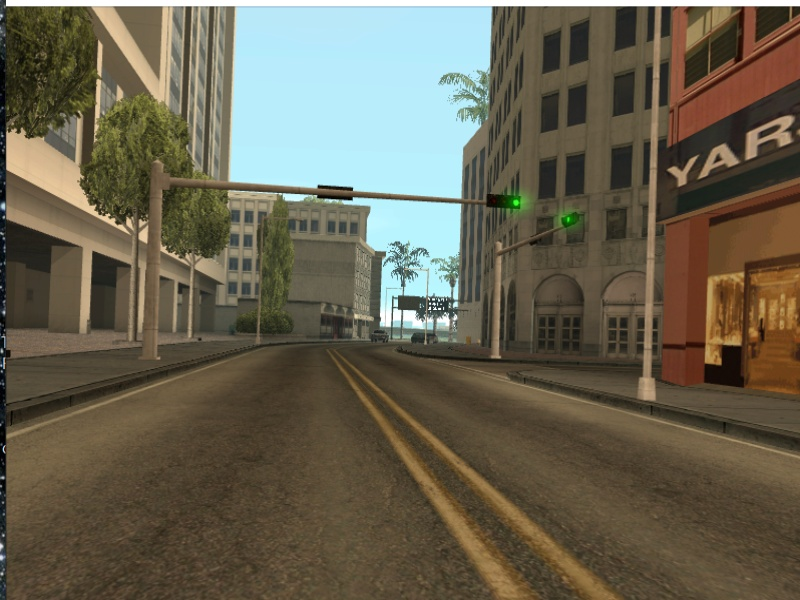pole: (644, 9, 661, 402), (145, 163, 166, 365), (488, 248, 505, 359), (257, 220, 269, 346), (424, 270, 429, 345)
tree: (128, 221, 138, 342), (188, 252, 199, 342)
vehicle: (370, 330, 390, 346), (411, 331, 426, 344)
